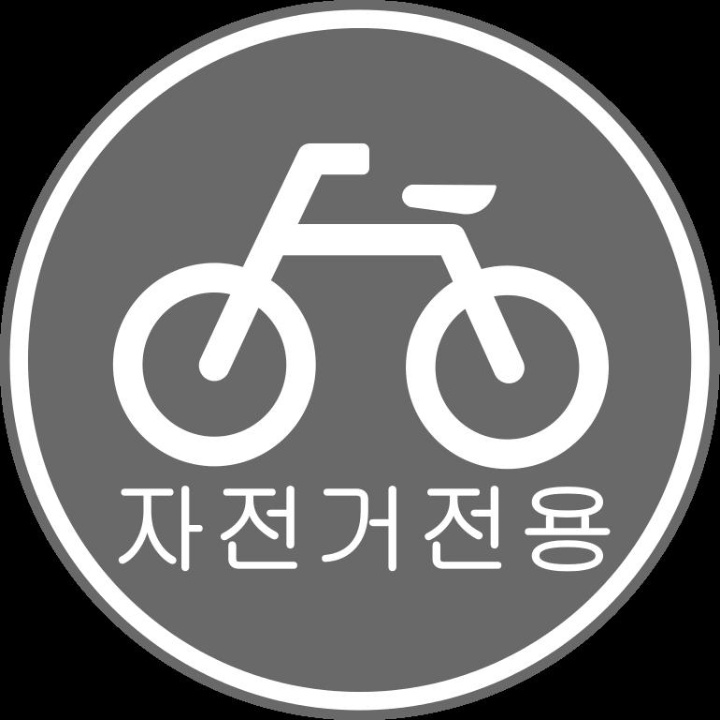bicycle: (114, 102, 620, 473)
